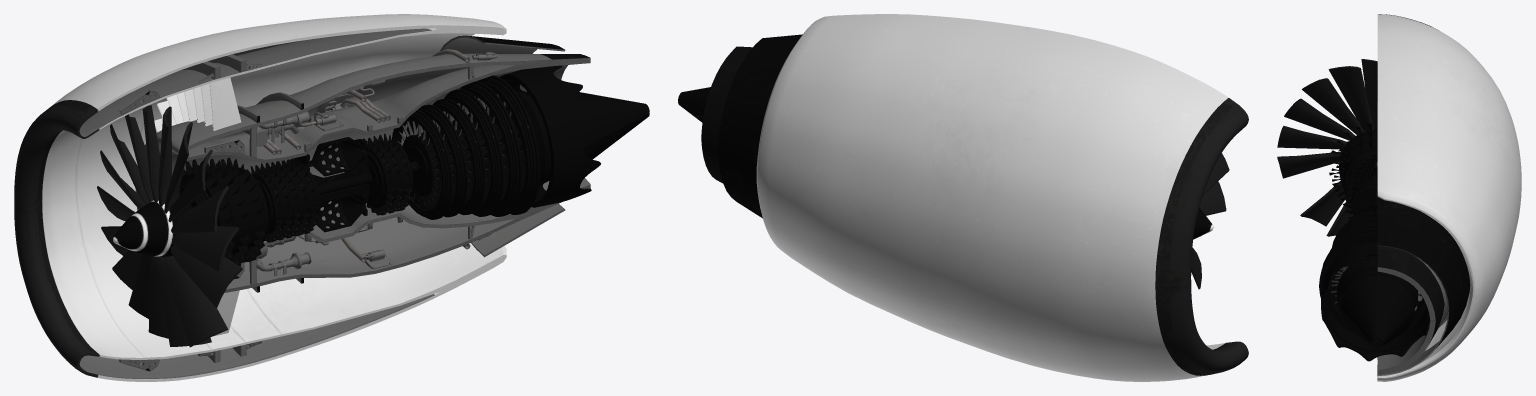
File: jet-optimized.glb
The picture shows the model from 3 angles, left to right: view 1: azimuth 30°, elevation 25°; view 2: azimuth 150°, elevation 25°; view 3: azimuth 270°, elevation 25°; orthographic projection. The views are drawn at different scales.
Visible parts, largest first — view 1: Object_16.983, Object_16.973, Object_16.086, Object_16.083, Object_16.057, Object_19.414, Object_16.053, Object_19.412, Object_12.062, Object_12.155, Object_12.080, Object_12.084 (+20 smaller); view 2: Object_16.973, Object_16.983, Object_16.053, Object_16.086, Object_19.412, Object_12.080; view 3: Object_16.973, Object_16.053, Object_19.412, Object_16.086, Object_16.983, Object_12.114, Object_12.107, Object_12.097, Object_12.084, Object_19.413, Object_13.043, Object_12.080 (+9 smaller).
Part boxes in pixels (x1,y1,x2,y2): Object_16.983: [14, 163, 506, 381]; Object_16.973: [14, 14, 506, 207]; Object_16.086: [135, 53, 590, 292]; Object_16.083: [226, 217, 514, 289]; Object_16.057: [188, 65, 514, 159]; Object_19.414: [505, 68, 580, 207]; Object_16.053: [440, 35, 565, 257]; Object_19.412: [573, 92, 649, 159]; Object_12.062: [163, 256, 228, 347]; Object_12.155: [113, 194, 190, 257]; Object_12.080: [171, 245, 242, 307]; Object_12.084: [172, 226, 239, 272]; Object_16.973: [756, 14, 1248, 285]; Object_16.983: [756, 176, 1248, 381]; Object_16.053: [718, 34, 802, 218]; Object_16.086: [701, 46, 752, 183]; Object_19.412: [678, 87, 710, 122]; Object_12.080: [1199, 181, 1226, 215]; Object_16.973: [1377, 14, 1521, 288]; Object_16.053: [1377, 191, 1470, 376]; Object_19.412: [1340, 275, 1413, 348]; Object_16.086: [1377, 102, 1447, 374]; Object_16.983: [1377, 188, 1521, 381]; Object_12.114: [1328, 66, 1373, 130]; Object_12.107: [1302, 78, 1364, 134]; Object_12.097: [1284, 98, 1355, 140]; Object_12.084: [1277, 126, 1346, 149]; Object_19.413: [1325, 295, 1428, 350]; Object_13.043: [1319, 234, 1426, 331]; Object_12.080: [1277, 151, 1341, 178].
Bounding box in the file's own units: 13.97 × 7.48 × 6.35.
Materials: 3 (3 with a texture image).
